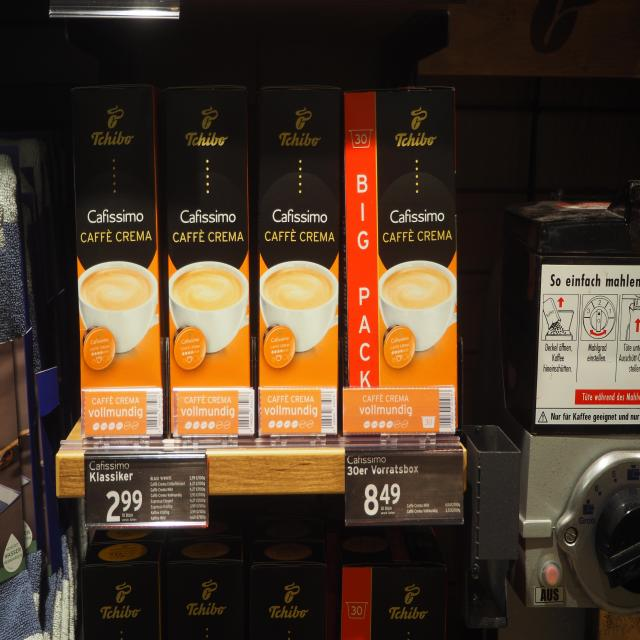Simo CCVollmundig: (341, 86, 461, 437)
Simo CCVollmundig bigpack: (158, 81, 257, 445), (71, 78, 167, 440), (256, 84, 342, 440)
